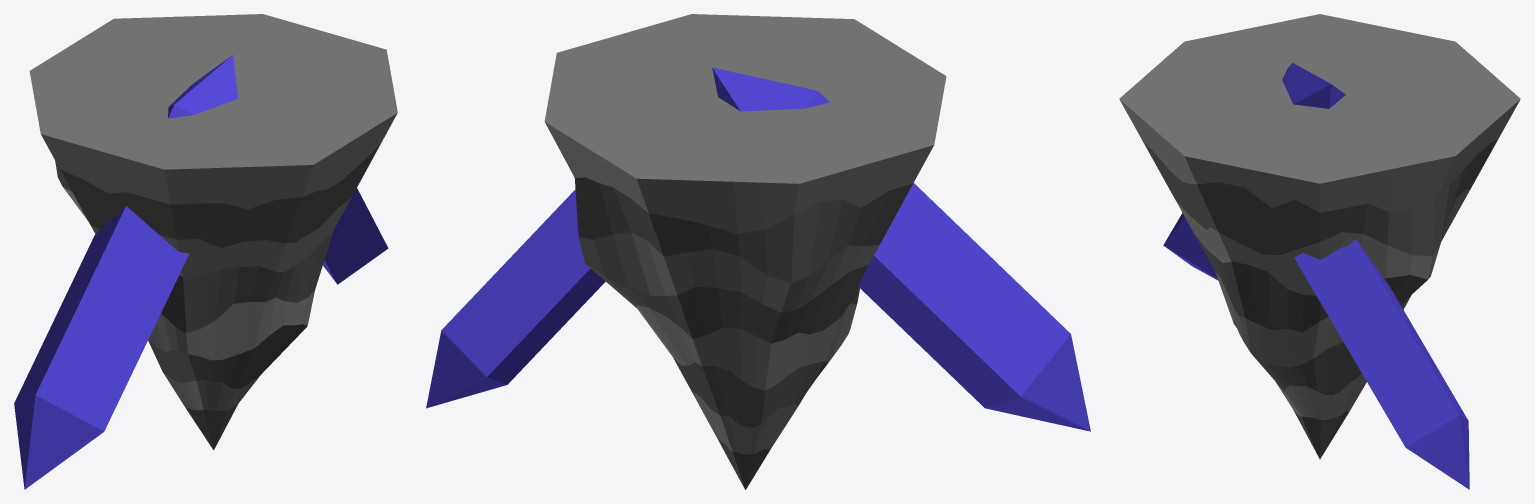
The model's file is island_nonplayable5.fbx.
The picture shows the model from 3 angles, left to right: view 1: azimuth 30°, elevation 25°; view 2: azimuth 150°, elevation 25°; view 3: azimuth 270°, elevation 25°; orthographic projection. The views are drawn at different scales.
Visible parts, largest first — view 1: island_nonplayable5_rocks, island_nonplayable5_crystals; view 2: island_nonplayable5_rocks, island_nonplayable5_crystals; view 3: island_nonplayable5_rocks, island_nonplayable5_crystals.
Boxes of the visible parts, <box> form: island_nonplayable5_rocks: <box>29,14,397,449</box>; island_nonplayable5_crystals: <box>14,55,388,489</box>; island_nonplayable5_rocks: <box>544,14,946,489</box>; island_nonplayable5_crystals: <box>426,67,1090,431</box>; island_nonplayable5_rocks: <box>1119,14,1520,458</box>; island_nonplayable5_crystals: <box>1163,63,1469,489</box>.
Bounding box in the file's own units: 9359 × 7309 × 6871.
